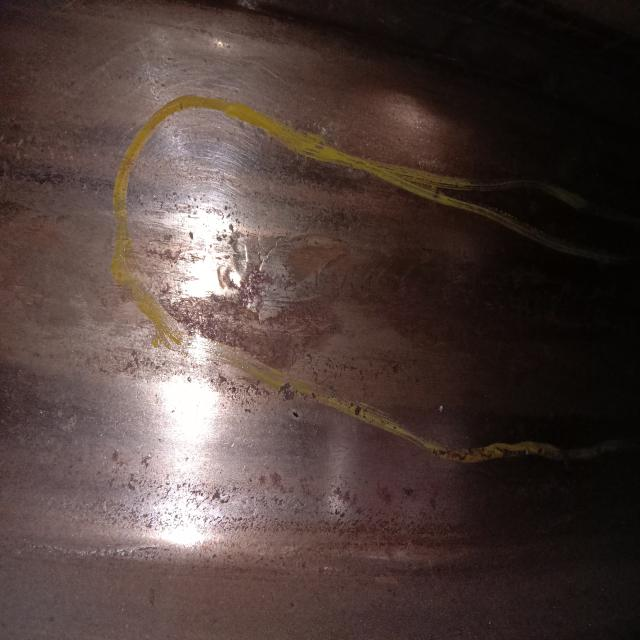flat: (189, 197, 391, 330)
